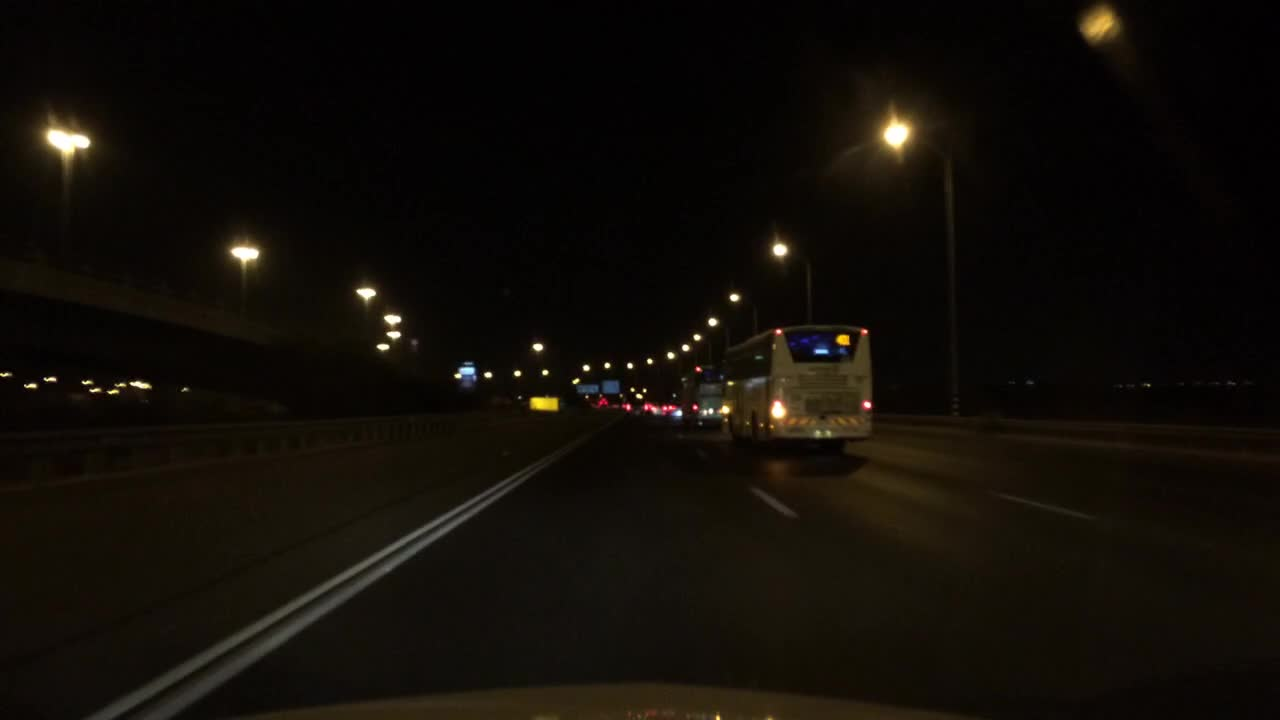bus: (721, 318, 880, 451), (676, 356, 724, 424)
car: (637, 392, 674, 419), (579, 387, 610, 413), (611, 389, 636, 417)
traffic sign: (457, 362, 478, 389), (527, 396, 560, 411)
